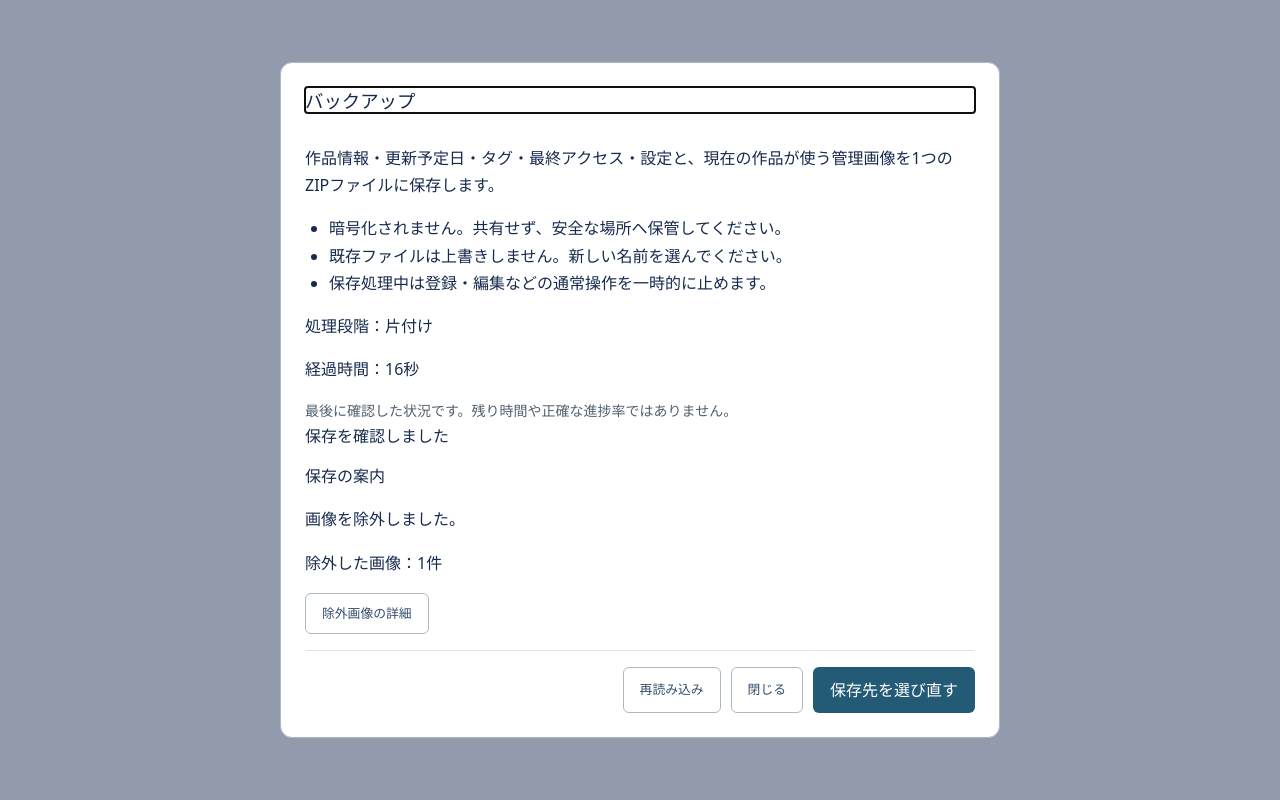
詳細は開いたときだけ取得し、作品名が利用不可なら0作品と表示しない
Click the button "除外画像の詳細" at x=367, y=613, box [305, 593, 429, 634]
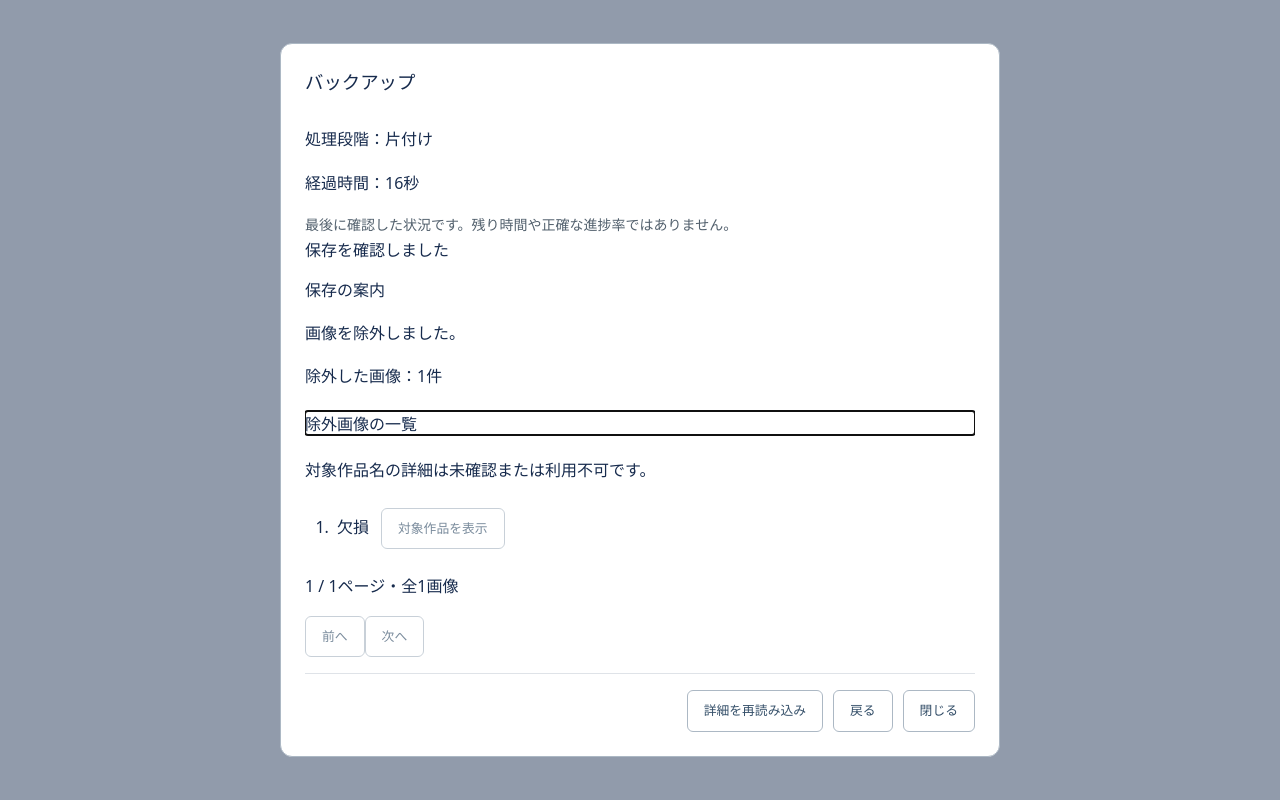
Check: the text "対象作品名の詳細は未確認または利用不可です。" is shown, box [305, 459, 655, 481]
Check: the button with aria-label "除外画像1の対象作品" is disabled, box [381, 508, 505, 549]
